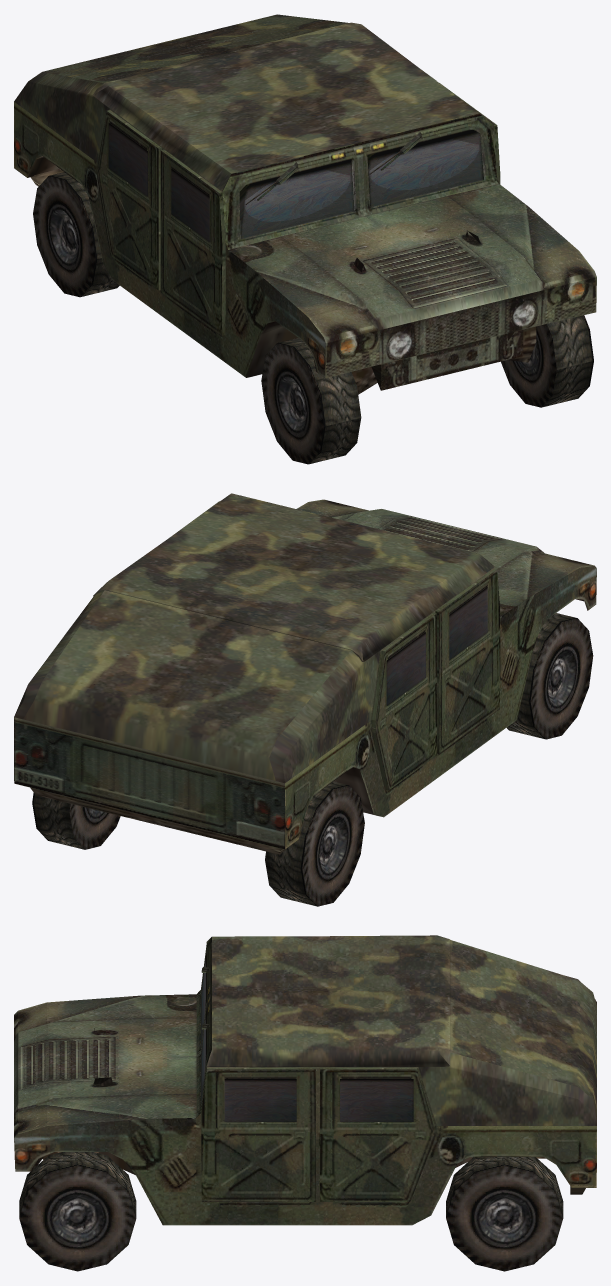
The model's file is FHum2.glb.
3 renders of one model, top to bottom at view 1: azimuth 30°, elevation 25°; view 2: azimuth 150°, elevation 25°; view 3: azimuth 270°, elevation 25°, orthographic. The views are drawn at different scales.
Parts seen in each view (by area): view 1: _FHum2; view 2: _FHum2; view 3: _FHum2.
Boxes of the visible parts, x1,y1,x2,y2 form: _FHum2: [14, 14, 596, 464]; _FHum2: [14, 493, 596, 906]; _FHum2: [14, 935, 596, 1271].
Bounding box in the file's own units: 2.56 × 2.04 × 4.98.
4 materials, 4 textured.
